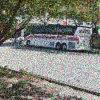buses: (26, 22, 96, 54)
